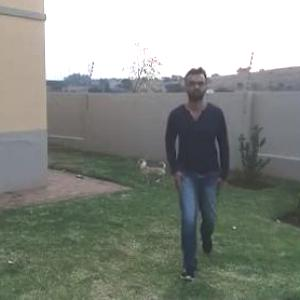follow: (166, 72, 222, 244)
